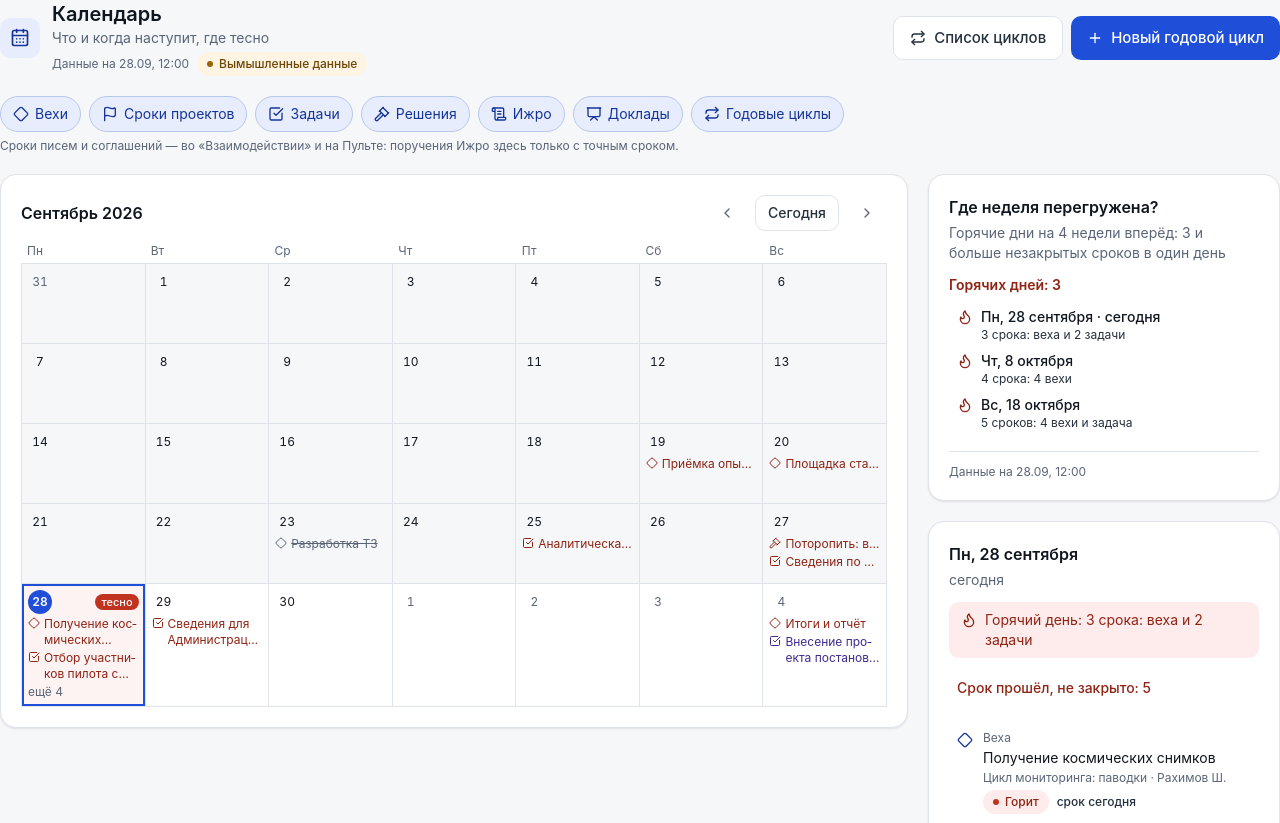
Календарь › «раз в несколько лет» без дат на год вперёд — ближайшая дата, а не «числа нет»
This screenshot has width=1280, height=823.
Click the button "Новый годовой цикл". click: (1176, 38)
box: [1071,16,1279,60]
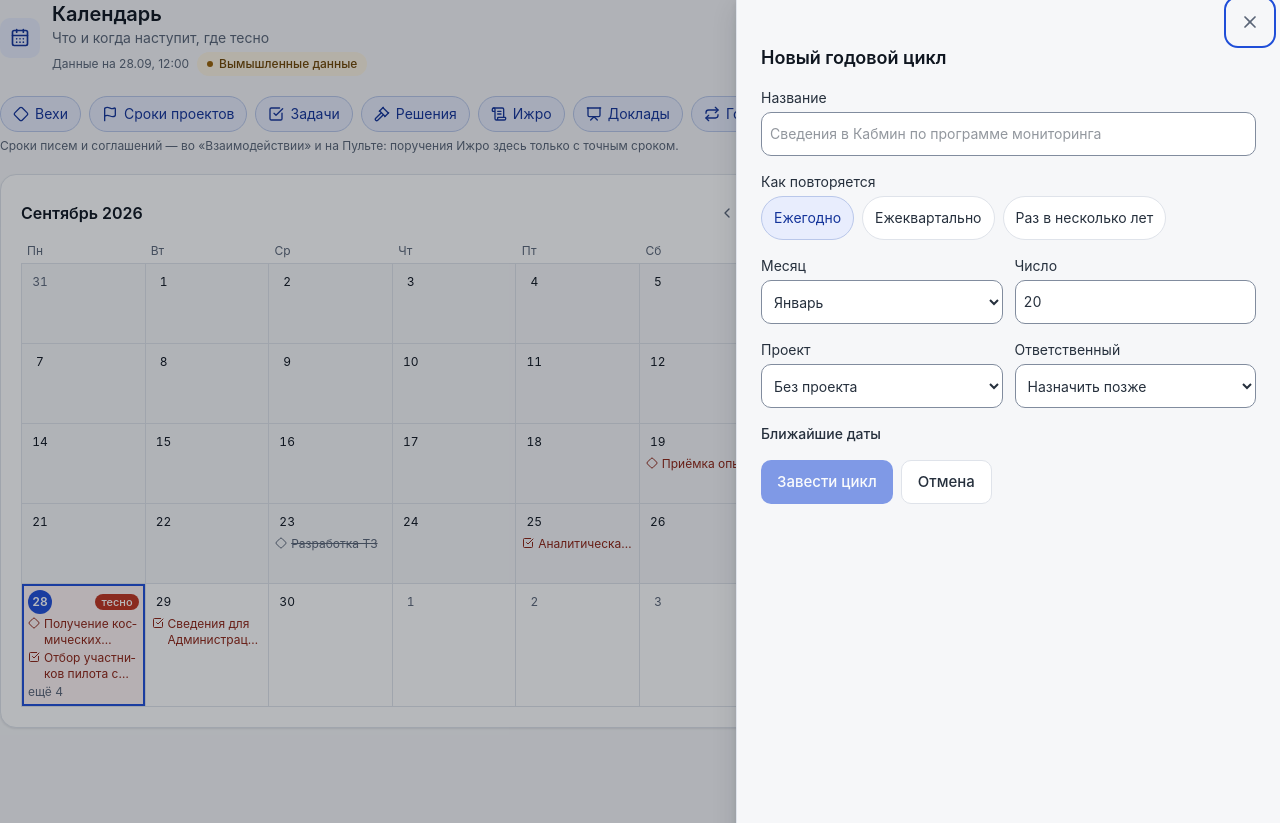
Click the radio button labelled "Раз в несколько лет". click: (1084, 218)
box: [1002,196,1166,240]
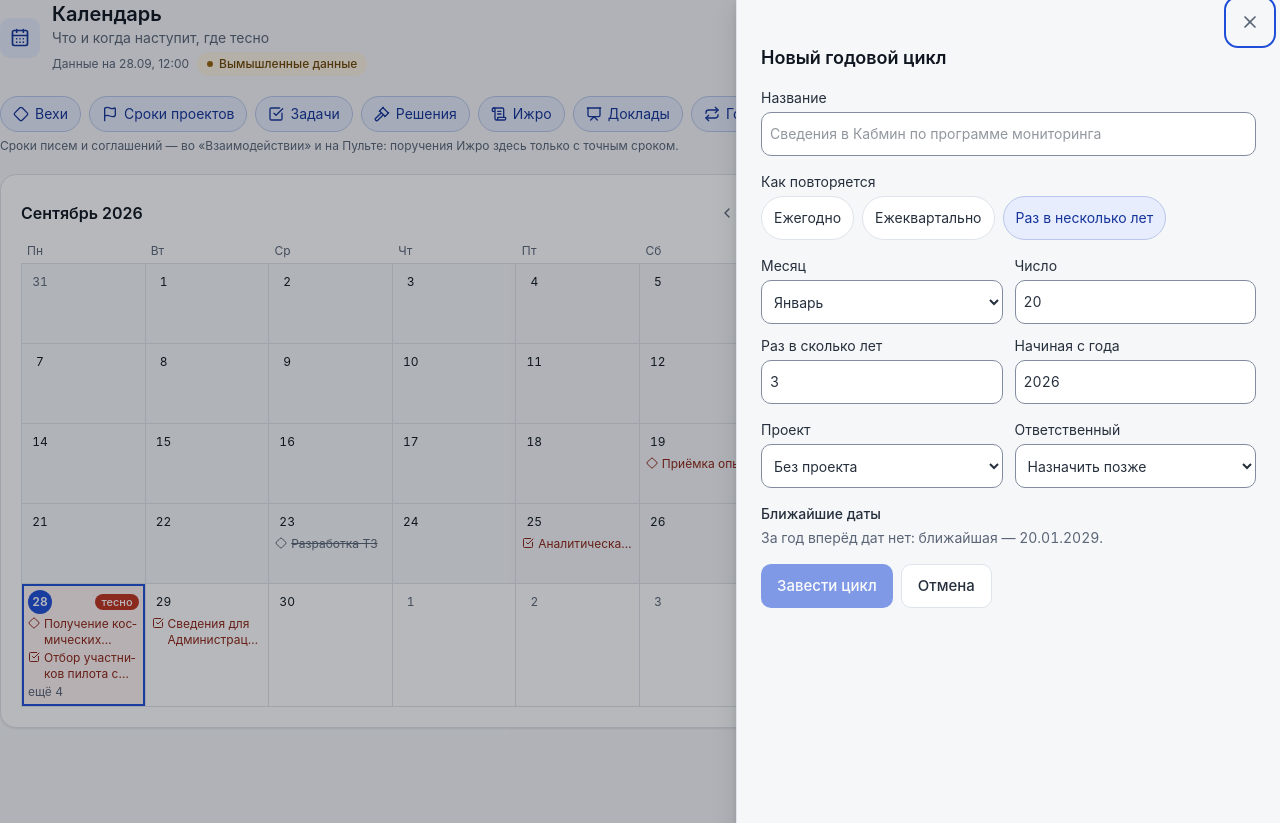
Now the text "За год вперёд дат нет: ближайшая — 20.01.2029." is shown, box [761,529,1103,546]
30 февраля нет ни в одном году — такой цикл не записывается.
Click the radio button labelled "Ежегодно". click: (808, 218)
box: [761,196,854,240]
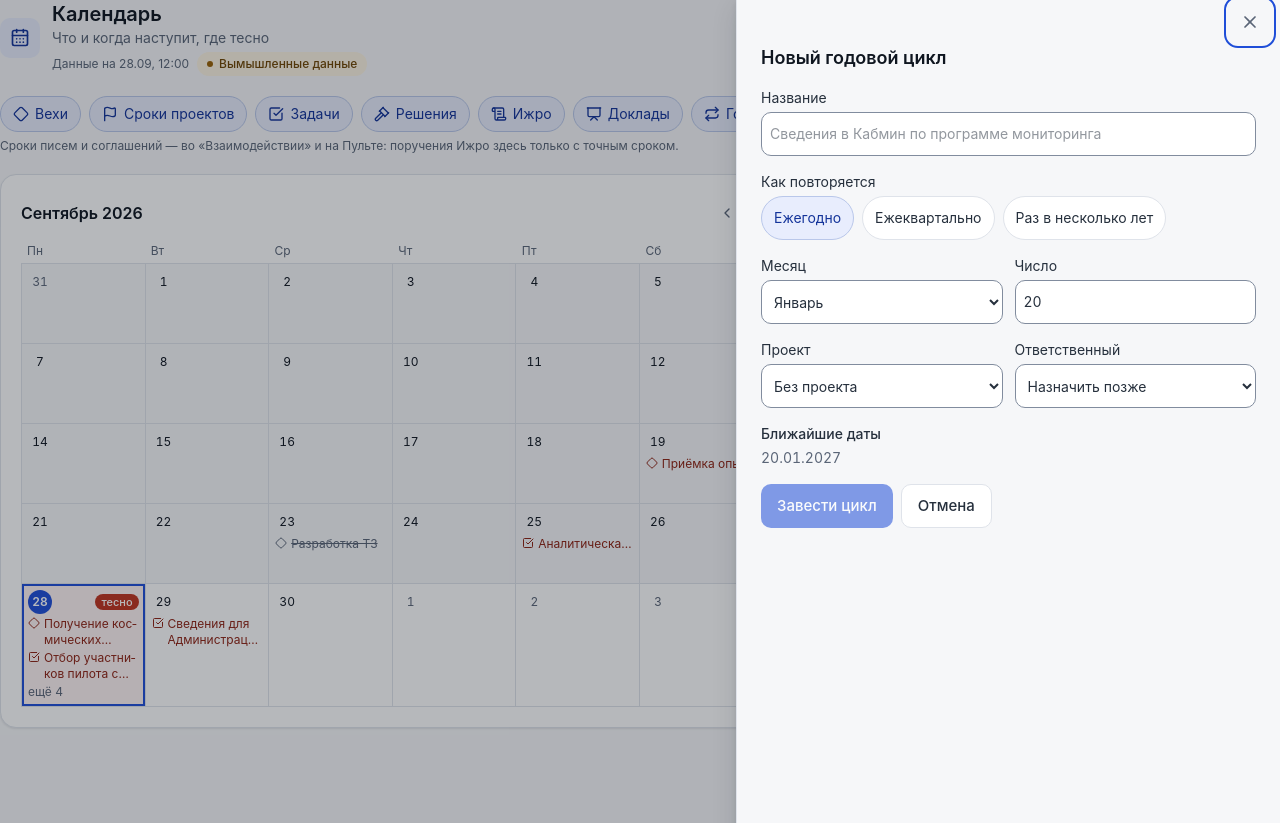
Select "2" in the dropdown labelled "Месяц". click: (882, 302)
box: [761,280,1002,324]
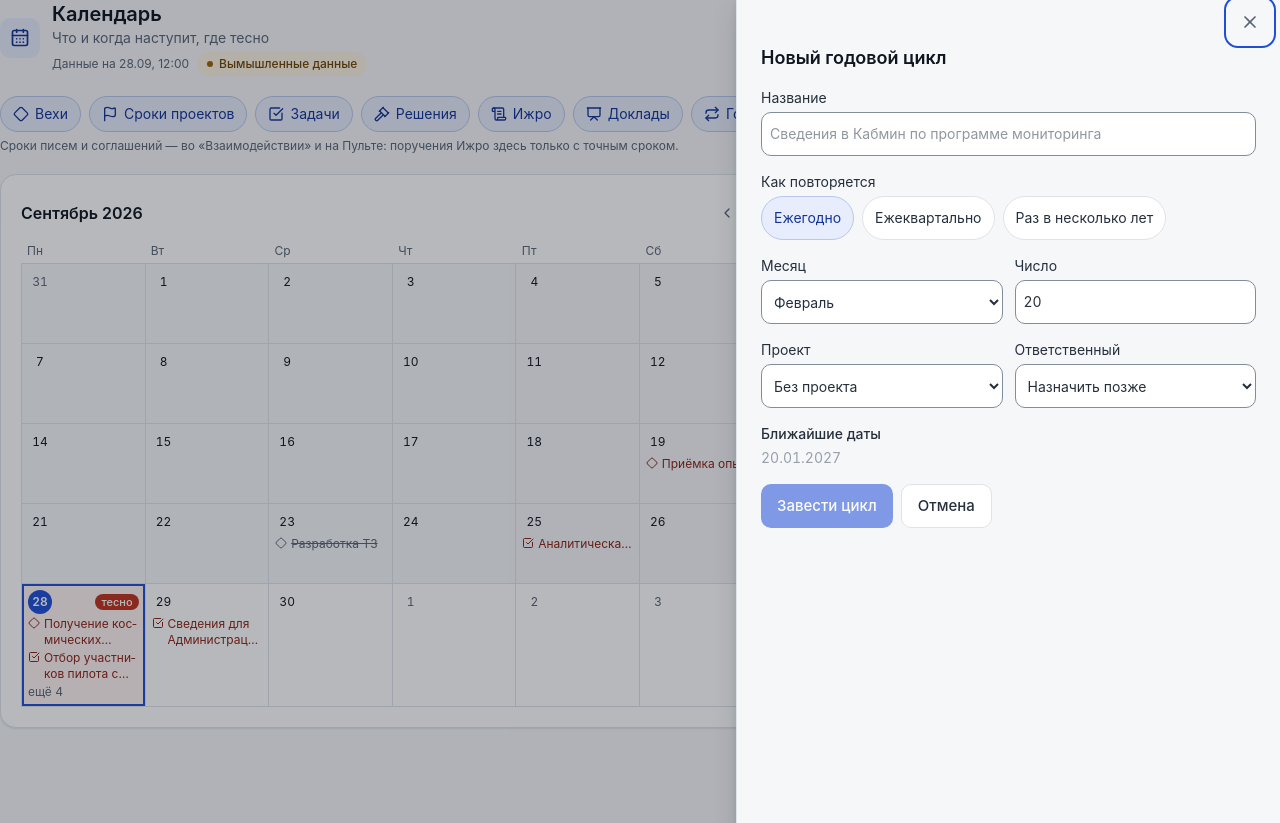
Replace the text in the field labelled "Число" with "30". click: (1135, 302)
box: [1014,280,1256,324]
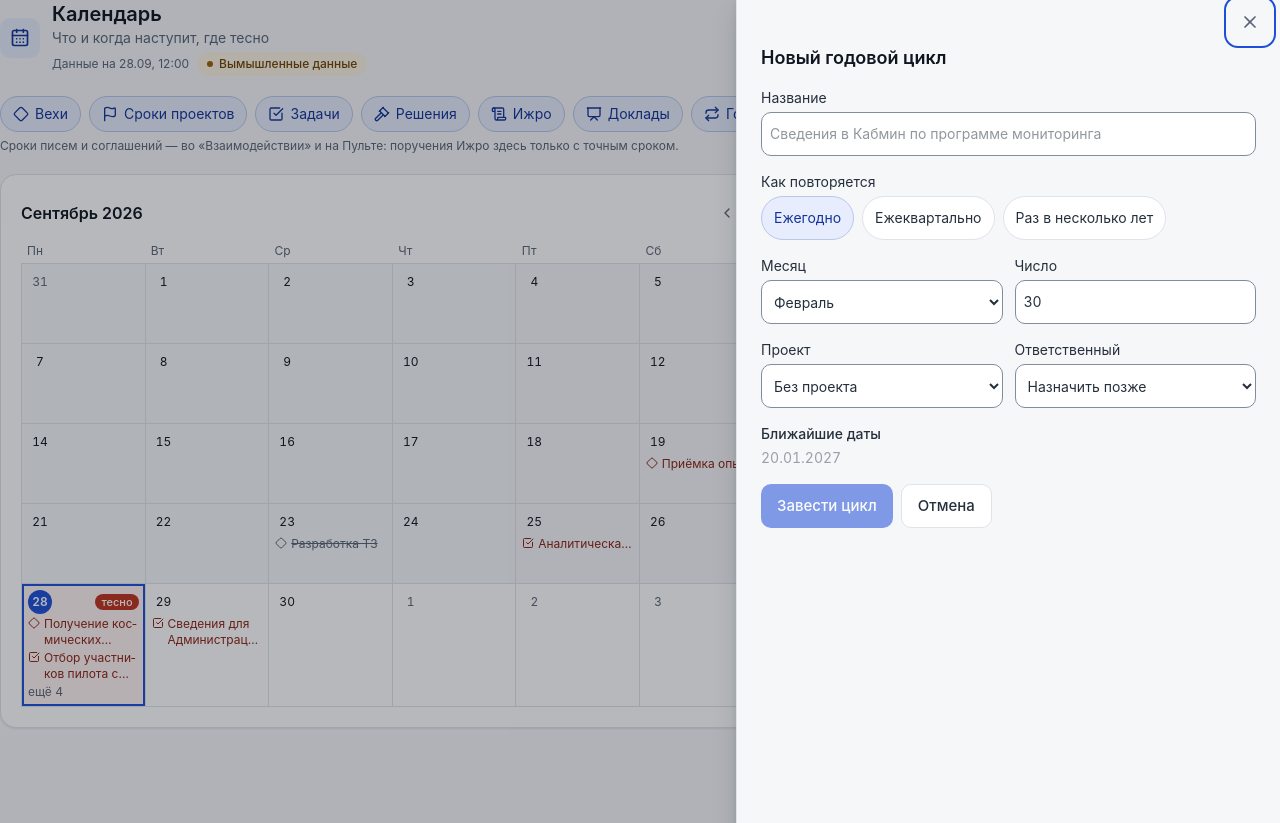
Type "Опечатка" into the field labelled "Название". click: (1008, 134)
box: [761,112,1256,156]
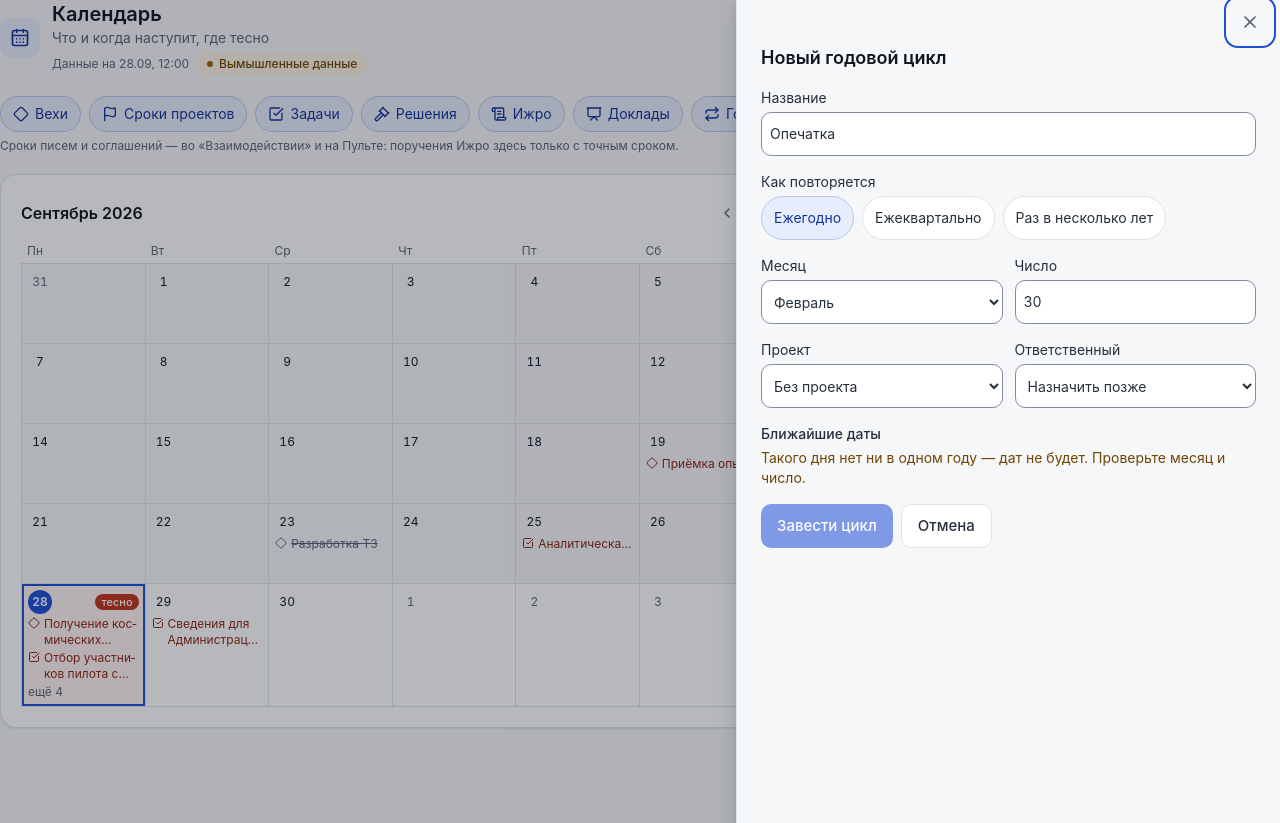
Now the button "Завести цикл" is disabled, box [761,504,893,548]
Now the text "Такого дня нет ни в одном году" is shown, box [761,449,1225,486]
